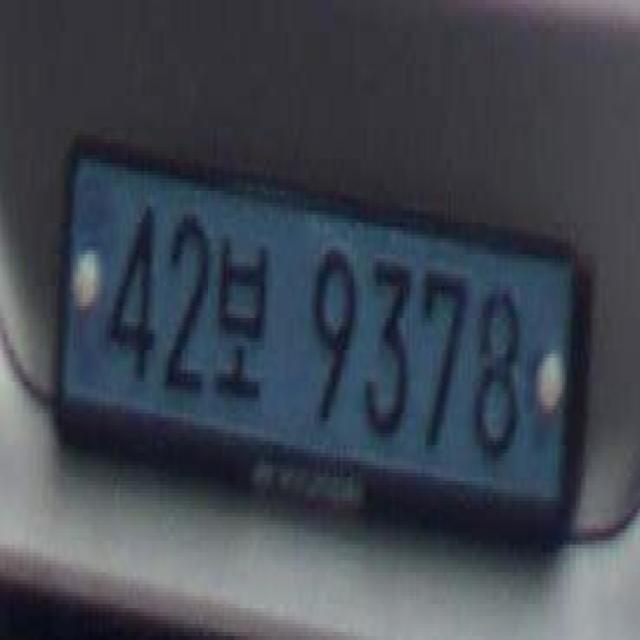EV_plate: (58, 134, 578, 555)
